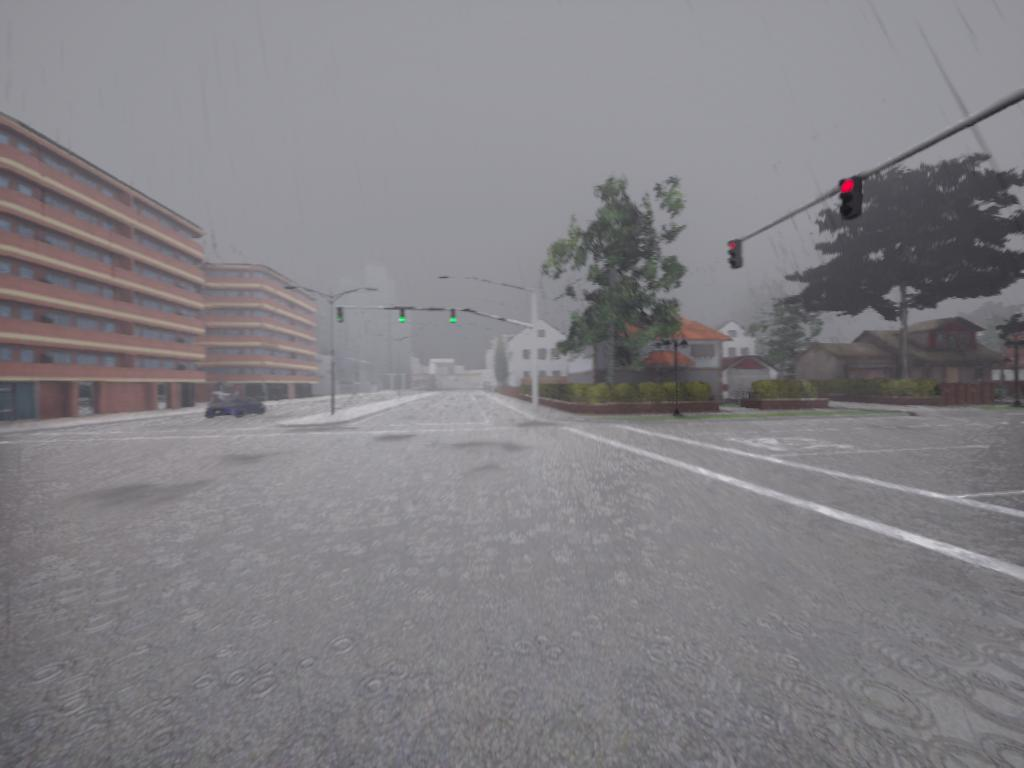traffic_light: (839, 179, 863, 221), (727, 241, 742, 269), (397, 305, 413, 325), (334, 307, 345, 325), (448, 315, 458, 326)
